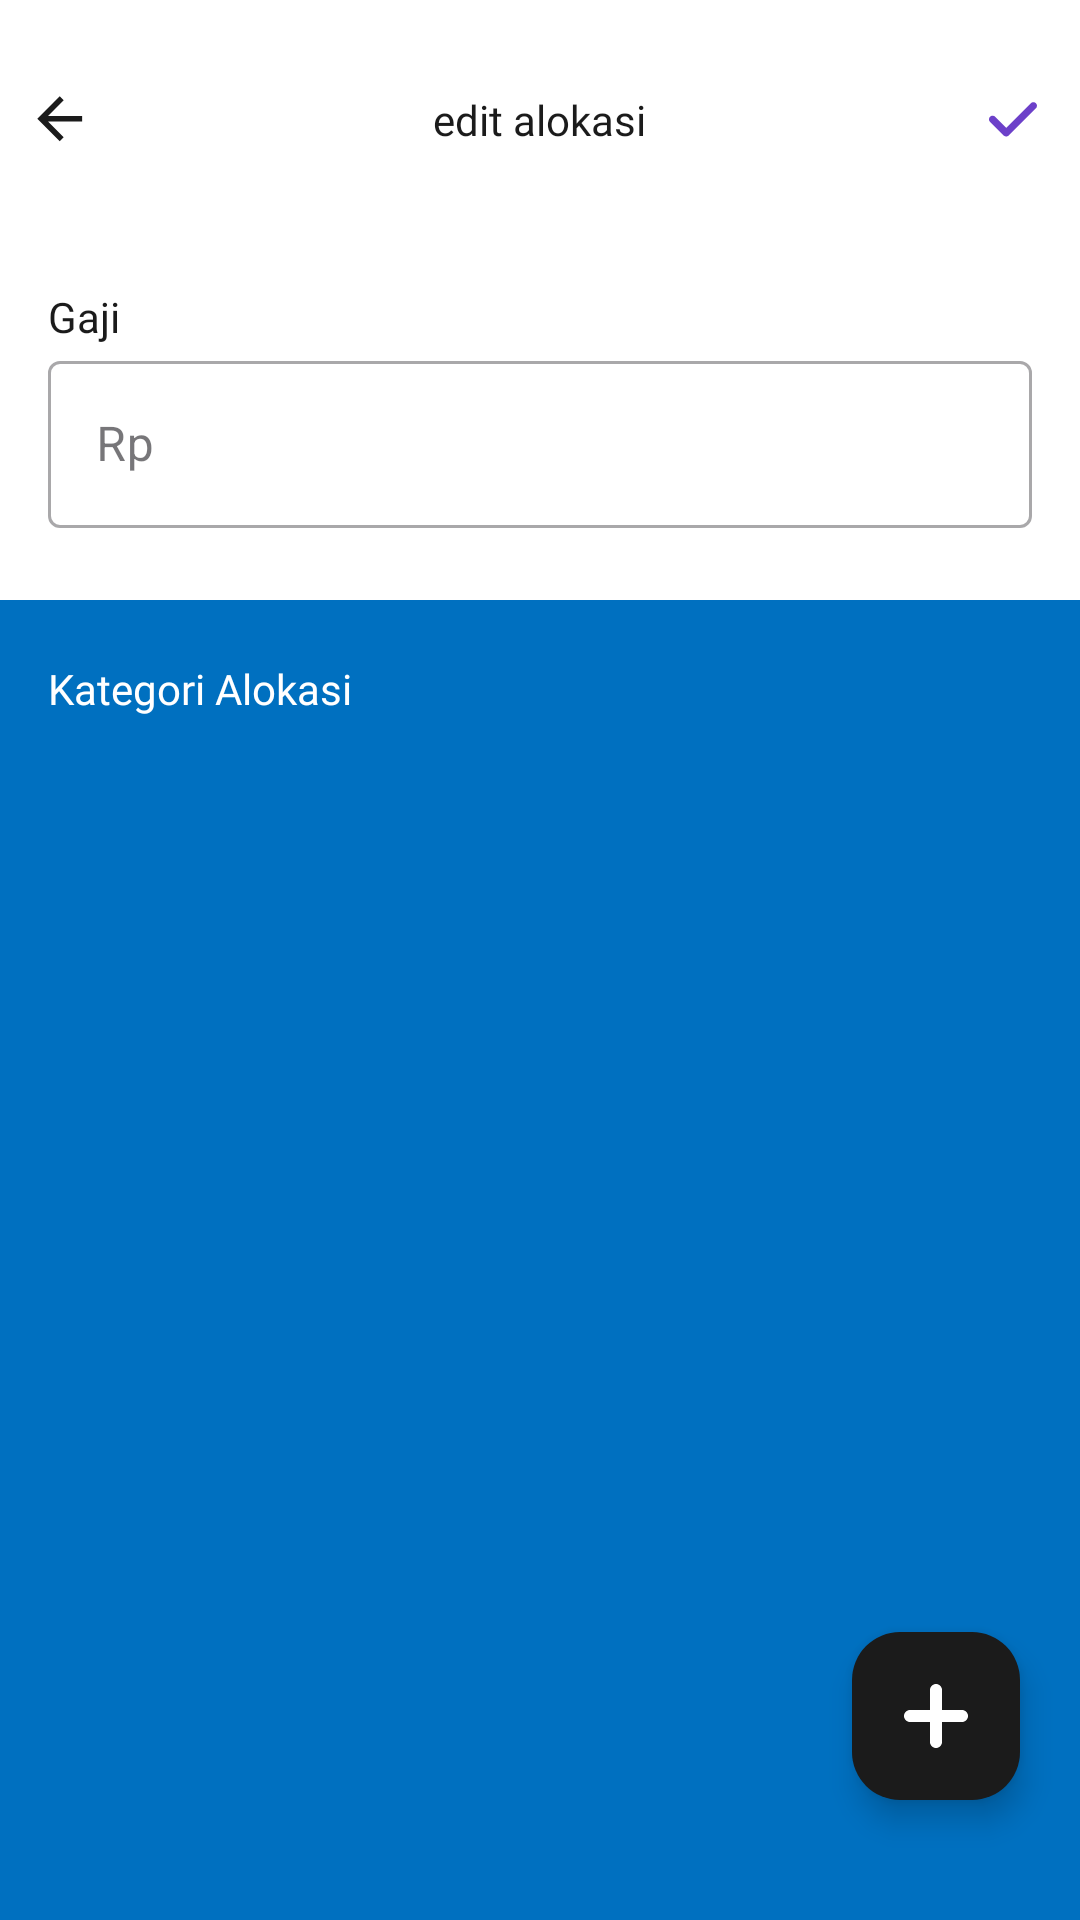

Screen size 1080 × 1920. Icon name, then its center in pixels as [x,y]:
add: [936,1716]
back: [60,118]
check: [1013,119]
